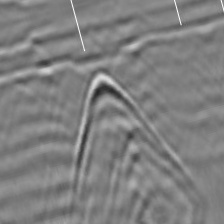Utility: (69, 68, 193, 222)
